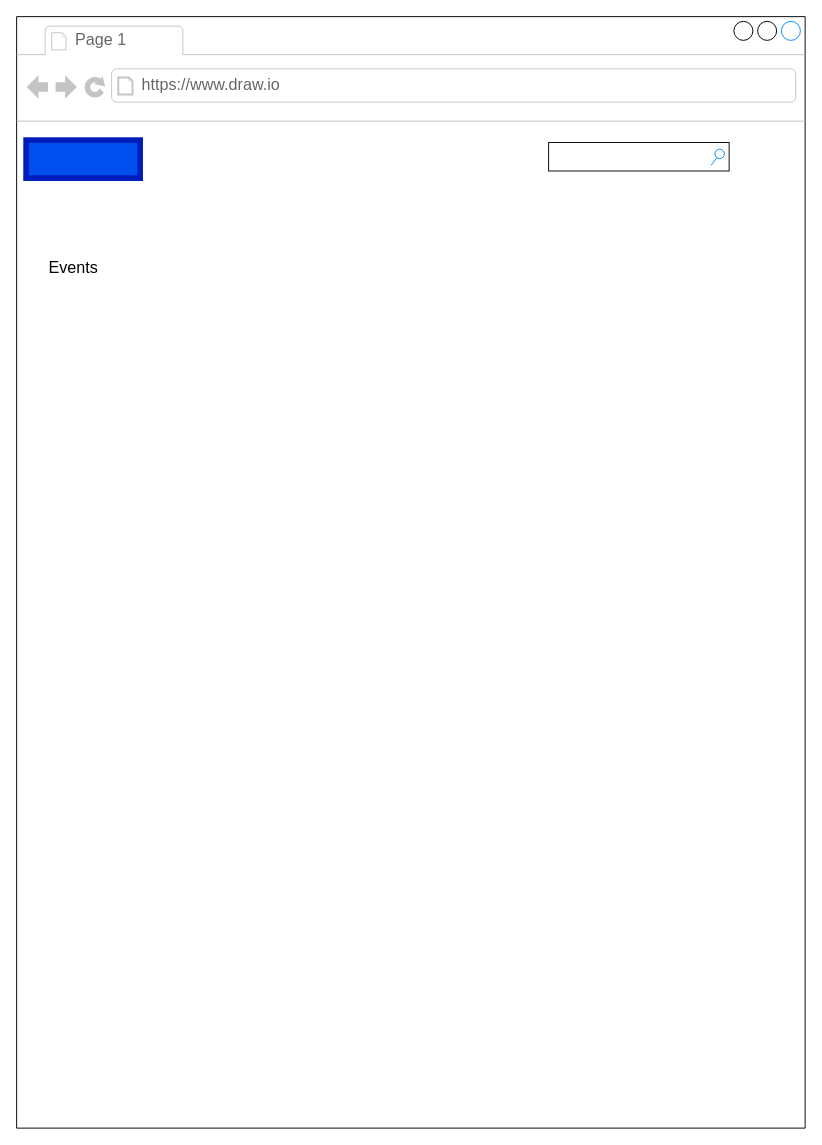
Image size: 822x1145. Some labels were removed from this diagram. Each missing label, with the centre of its shape:
"Event4U" belongs at point (82, 158).
"Search" belongs at point (638, 156).
